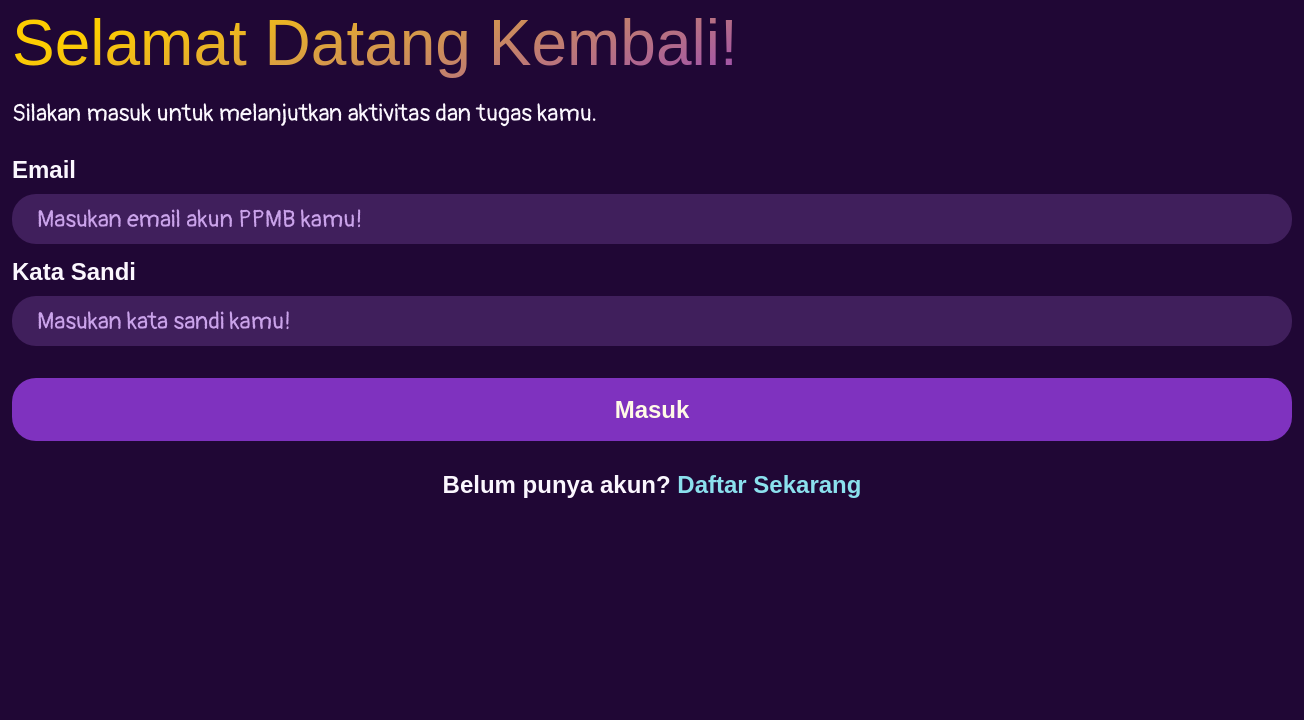
it: LoginFormContainer › shows the backend's error message instead of redirecting when login fails
The image size is (1304, 720).
Type "danniel@email.com" into the field labelled "Email" at [652, 219], box [12,194,1292,244]
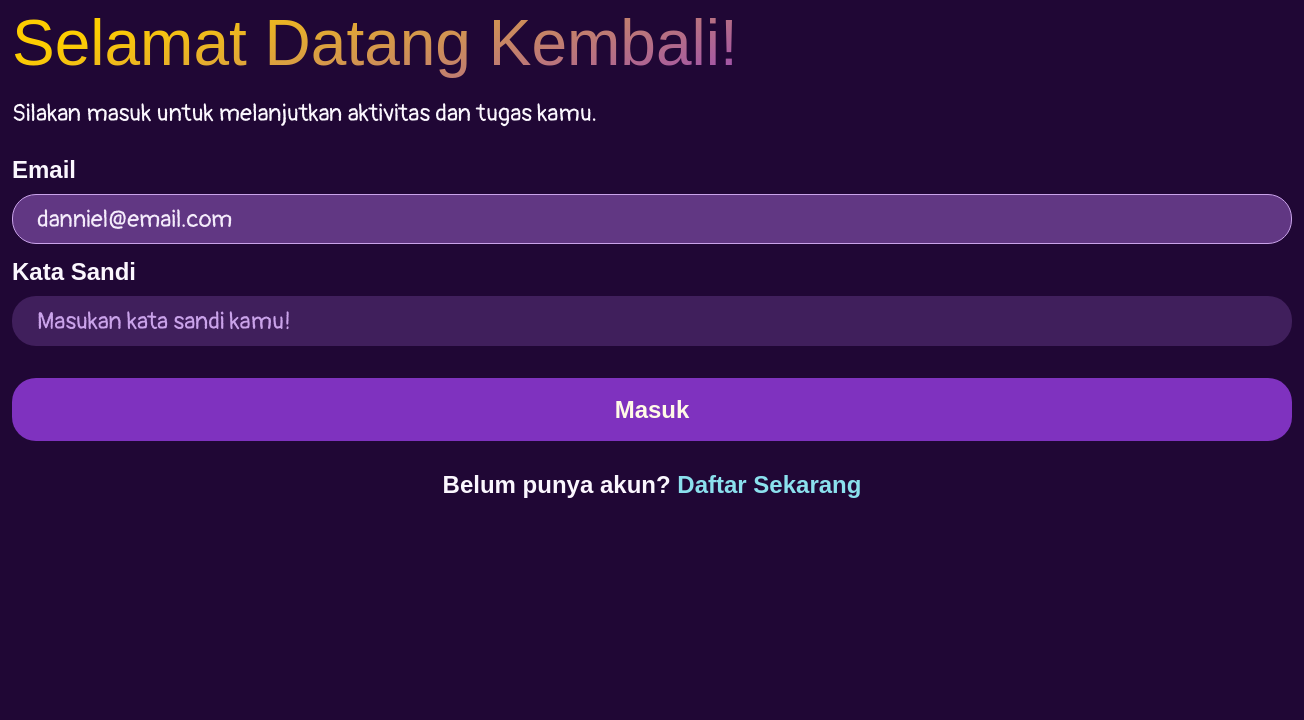
Type "wrongpassword" into the password field labelled "Kata Sandi" at [652, 321], box [12,296,1292,346]
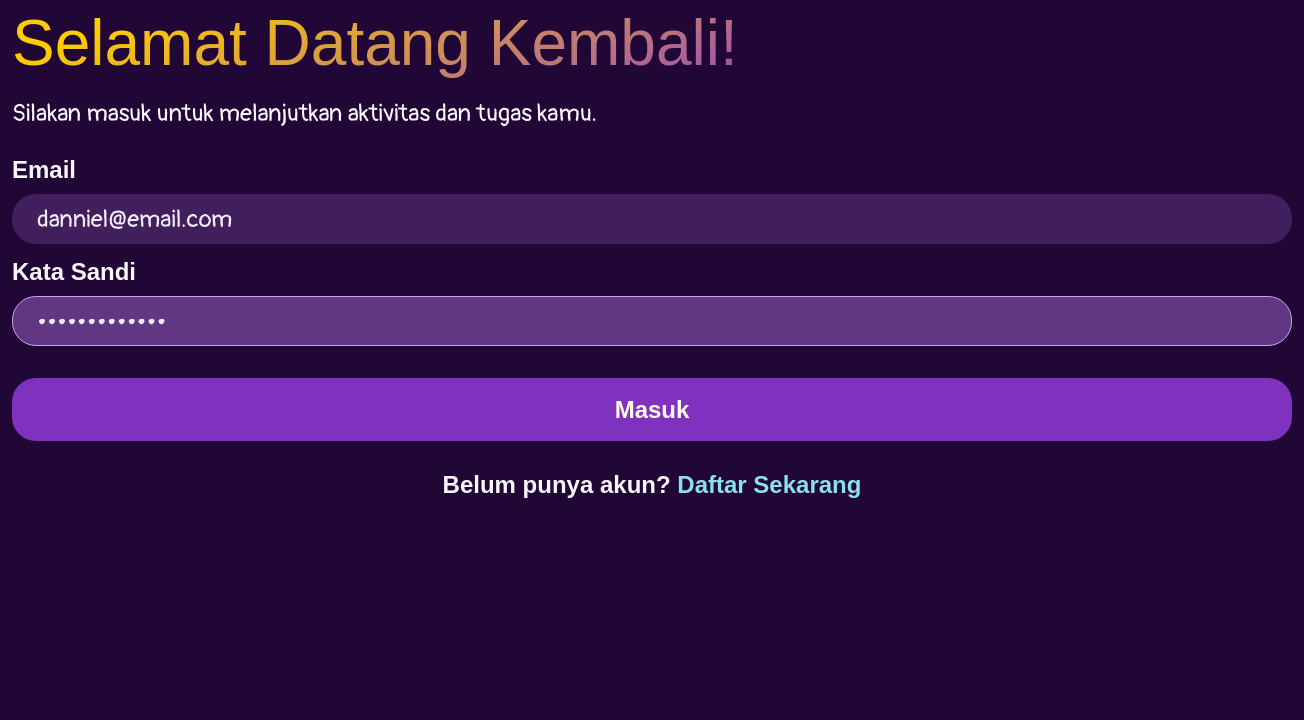
Click the button "Masuk" at [652, 410], box [12,378,1292,441]
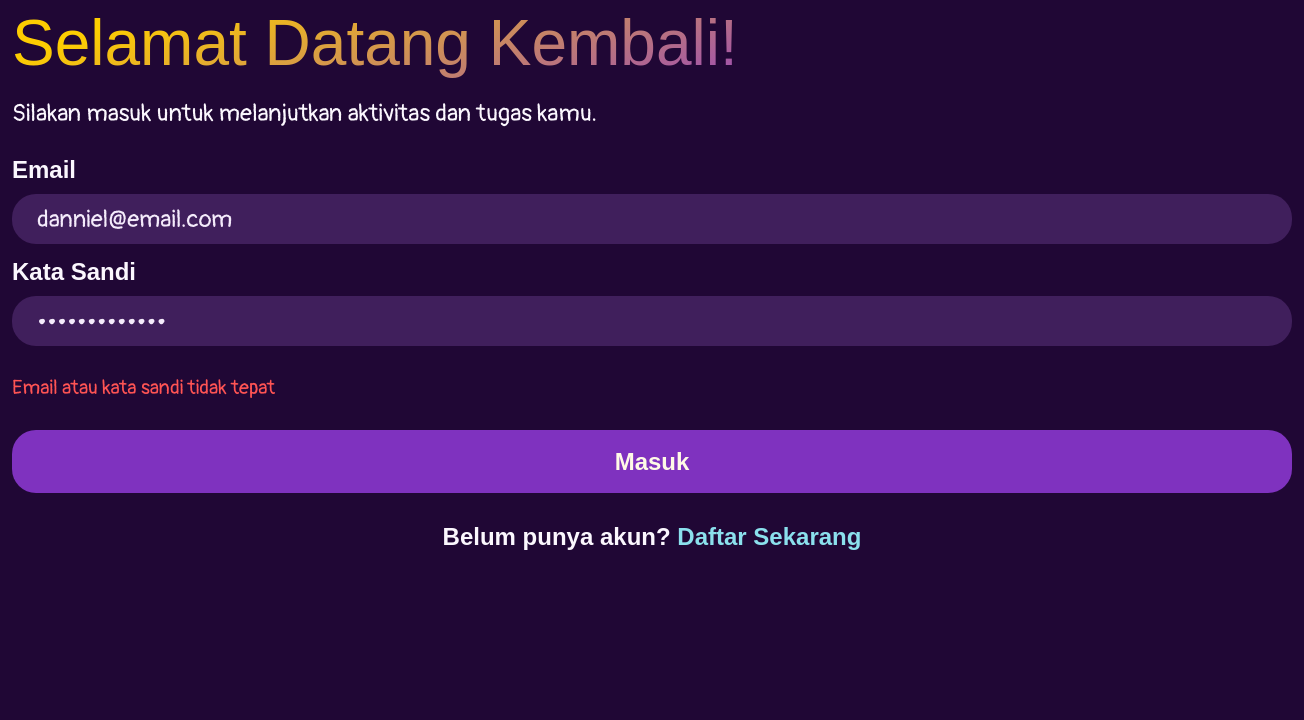
Result: the text "Email atau kata sandi tidak tepat" is shown at [12,378,275,398]
